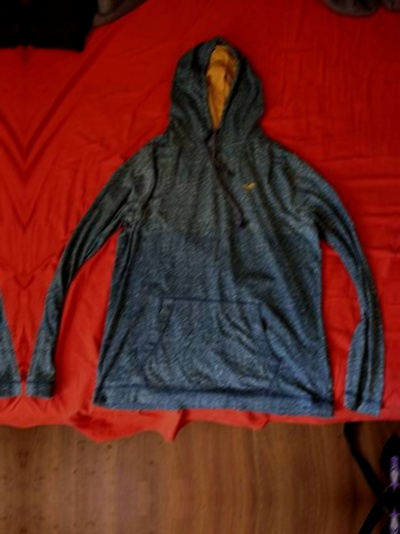Hoodie: (35, 40, 395, 455), (0, 38, 12, 453), (397, 41, 400, 456)
